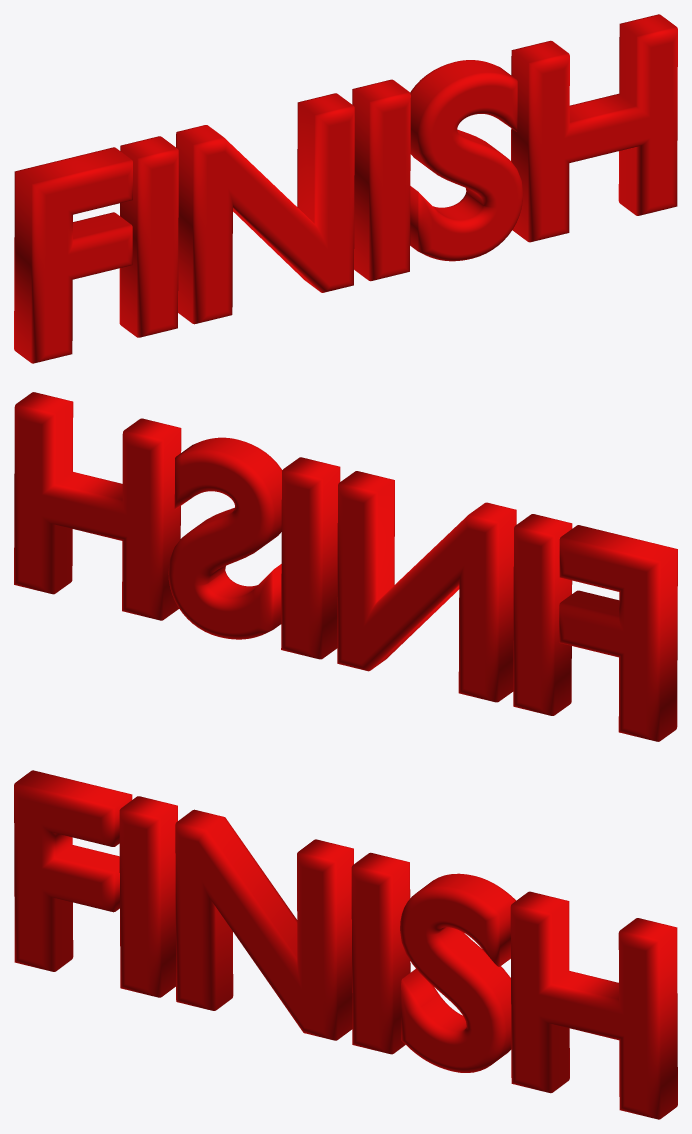
Rendered from End.fbx.
The picture shows the model from 3 angles, top to bottom: view 1: azimuth 30°, elevation 25°; view 2: azimuth 150°, elevation 25°; view 3: azimuth 330°, elevation 25°; orthographic projection.
Visible parts, largest first — view 1: Text; view 2: Text; view 3: Text.
Part boxes in pixels (x1,y1,x2,y2): Text: (14, 14, 677, 363); Text: (14, 392, 677, 741); Text: (14, 770, 677, 1119).
Size of the model in its own units: 287 by 78.1 by 20.57.
